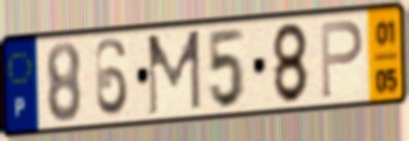5: (204, 24, 249, 111)
6: (93, 36, 130, 121)
8: (270, 21, 312, 107), (44, 39, 84, 125)
M: (145, 27, 204, 119)
P: (318, 18, 365, 102)
